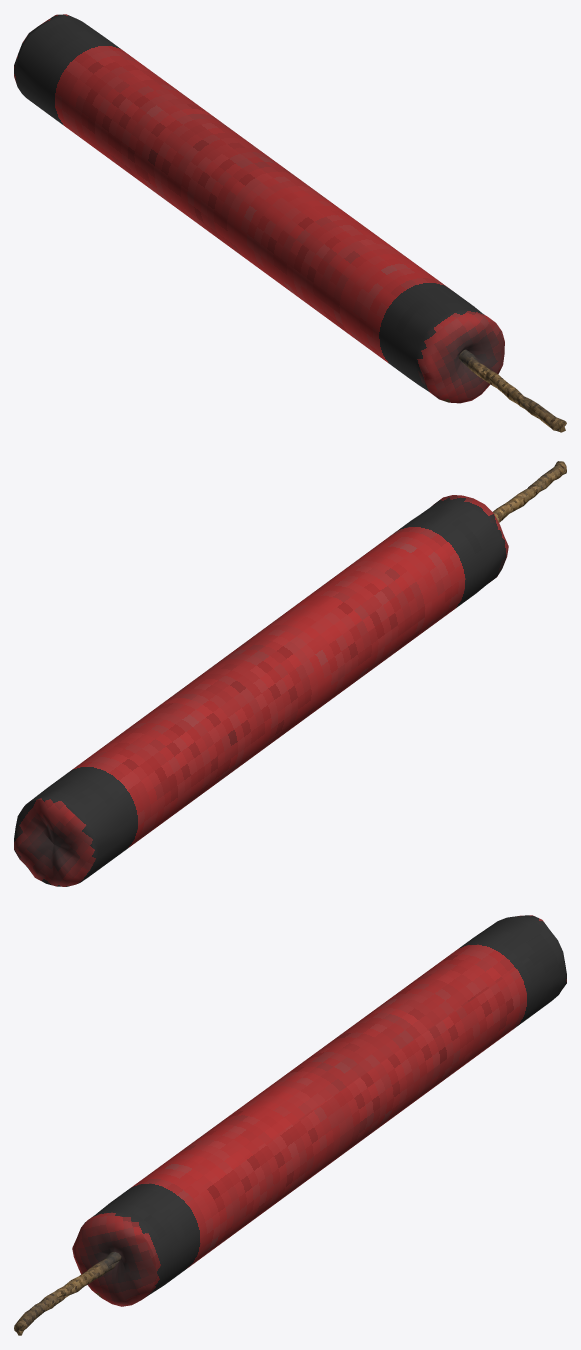
The model's file is dynamite.fbx.
3 renders of one model, top to bottom at view 1: azimuth 30°, elevation 25°; view 2: azimuth 150°, elevation 25°; view 3: azimuth 330°, elevation 25°, orthographic.
Parts seen in each view (by area): view 1: dynamite; view 2: dynamite; view 3: dynamite.
Boxes of the visible parts, x1,y1,x2,y2 form: dynamite: [14, 14, 566, 432]; dynamite: [14, 461, 566, 886]; dynamite: [14, 915, 566, 1335].
Size of the model in its own units: 3.45 by 3.38 by 35.69.
Materials: 1 (1 with a texture image).
